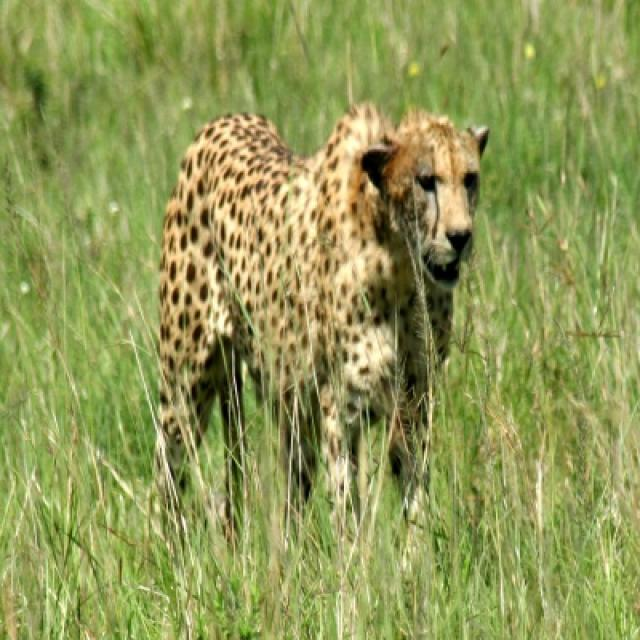Cheetah: (154, 102, 490, 522)
